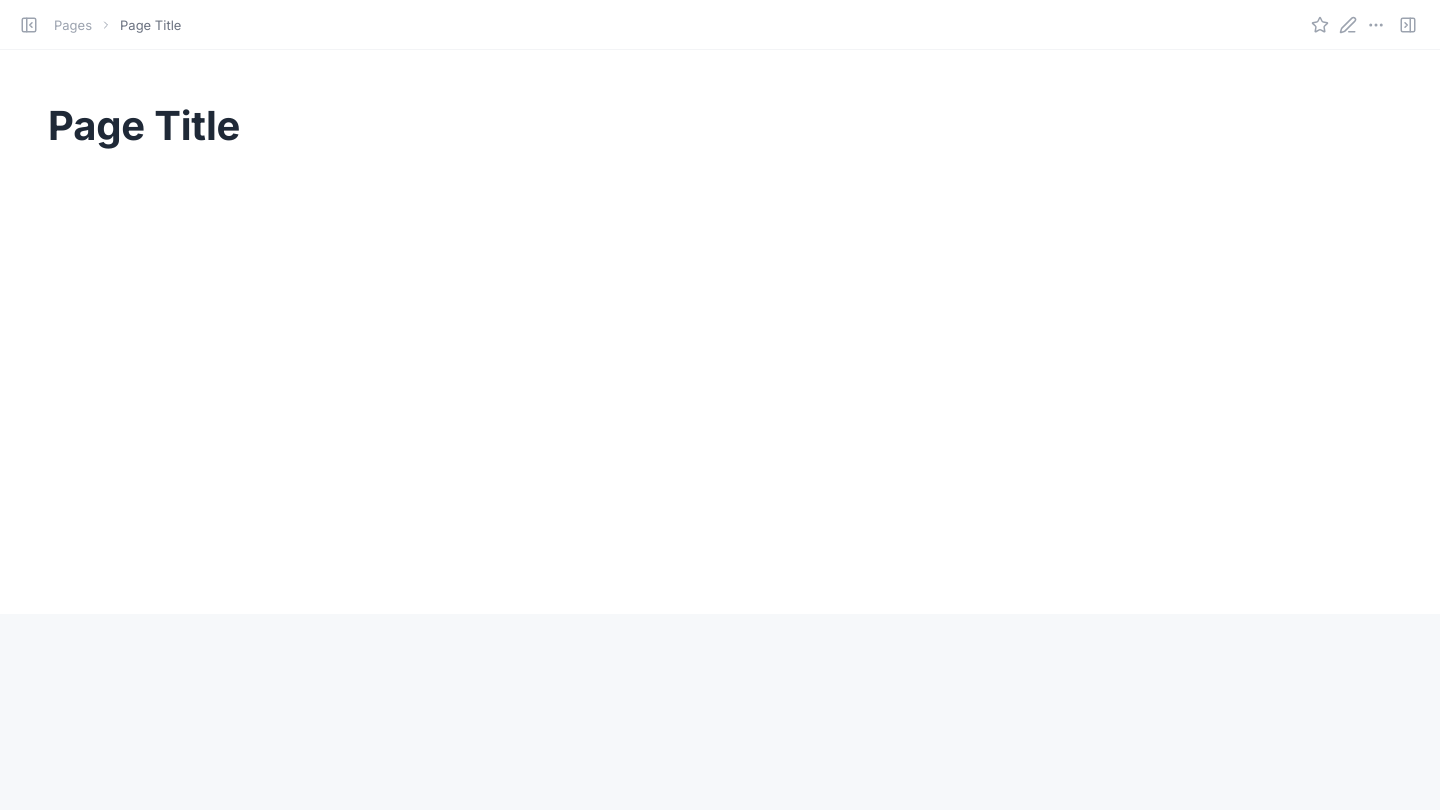
Test: PageContent › Edit Mode › discards changes and exits edit mode when Discard is clicked
Click the button named "Edit page" at {"x": 1348, "y": 24}, box 1336,12 -> 1360,36
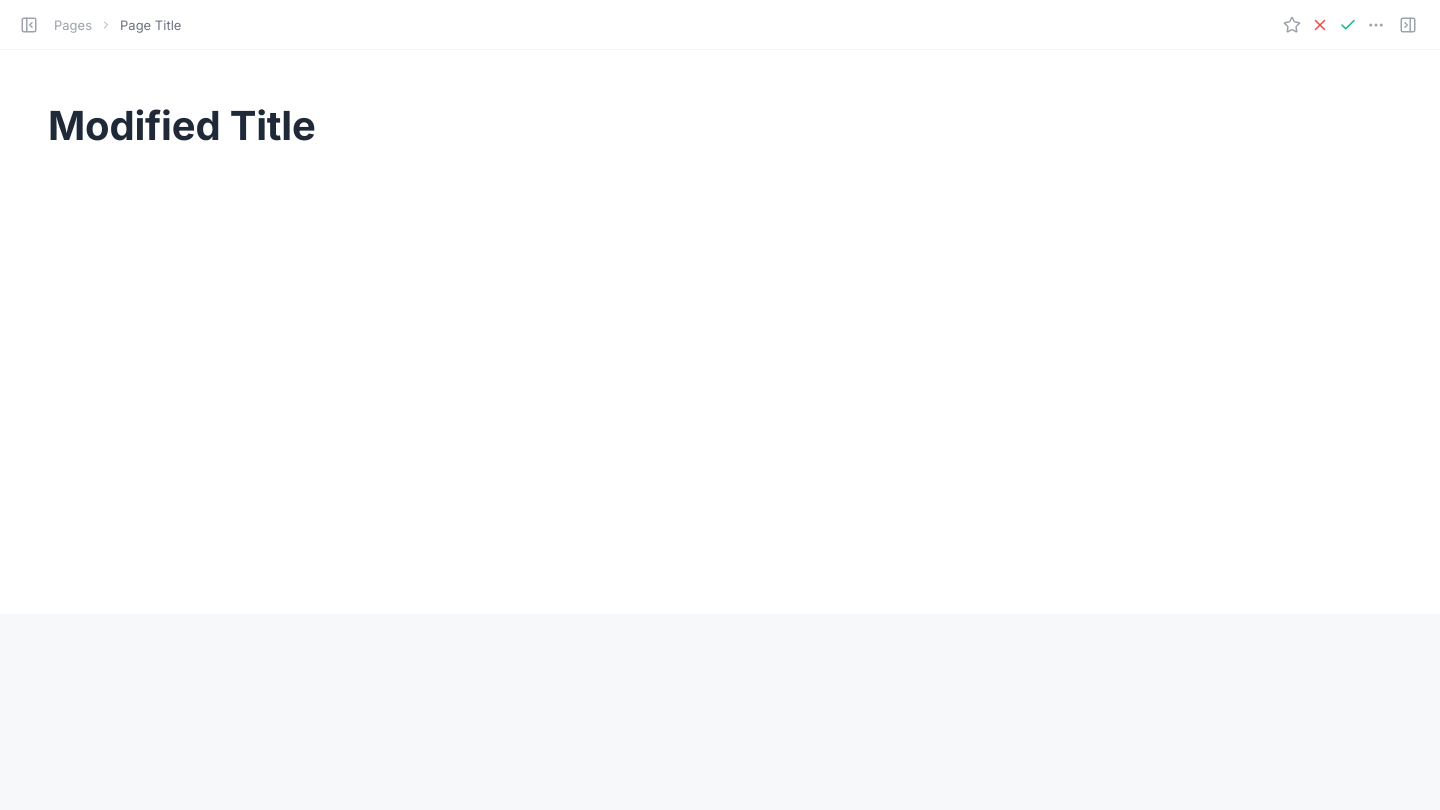
Clear the heading "Modified Title" at {"x": 182, "y": 126}, box 48,101 -> 316,150
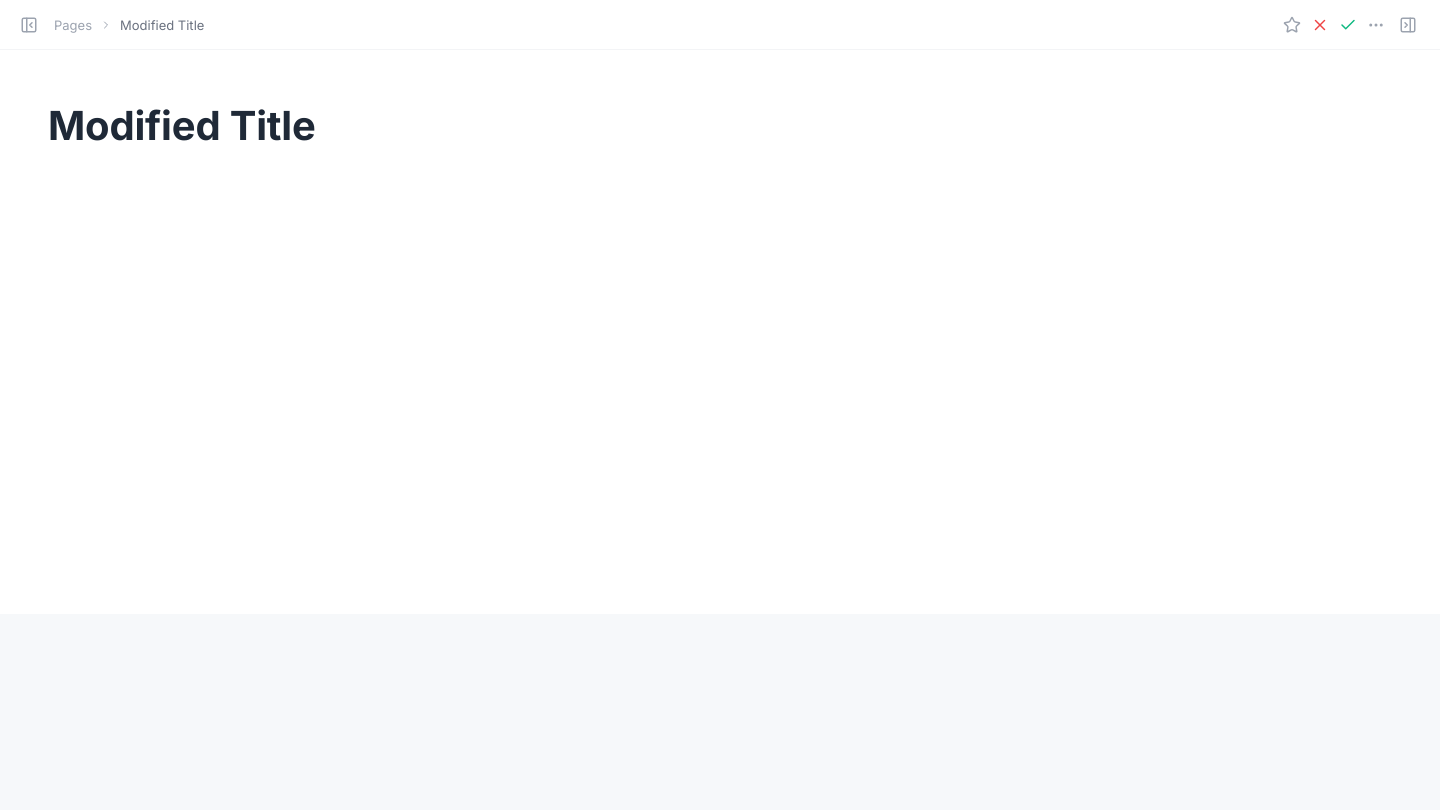
Click the button named "Cancel editing" at {"x": 1320, "y": 24}, box 1308,12 -> 1332,36
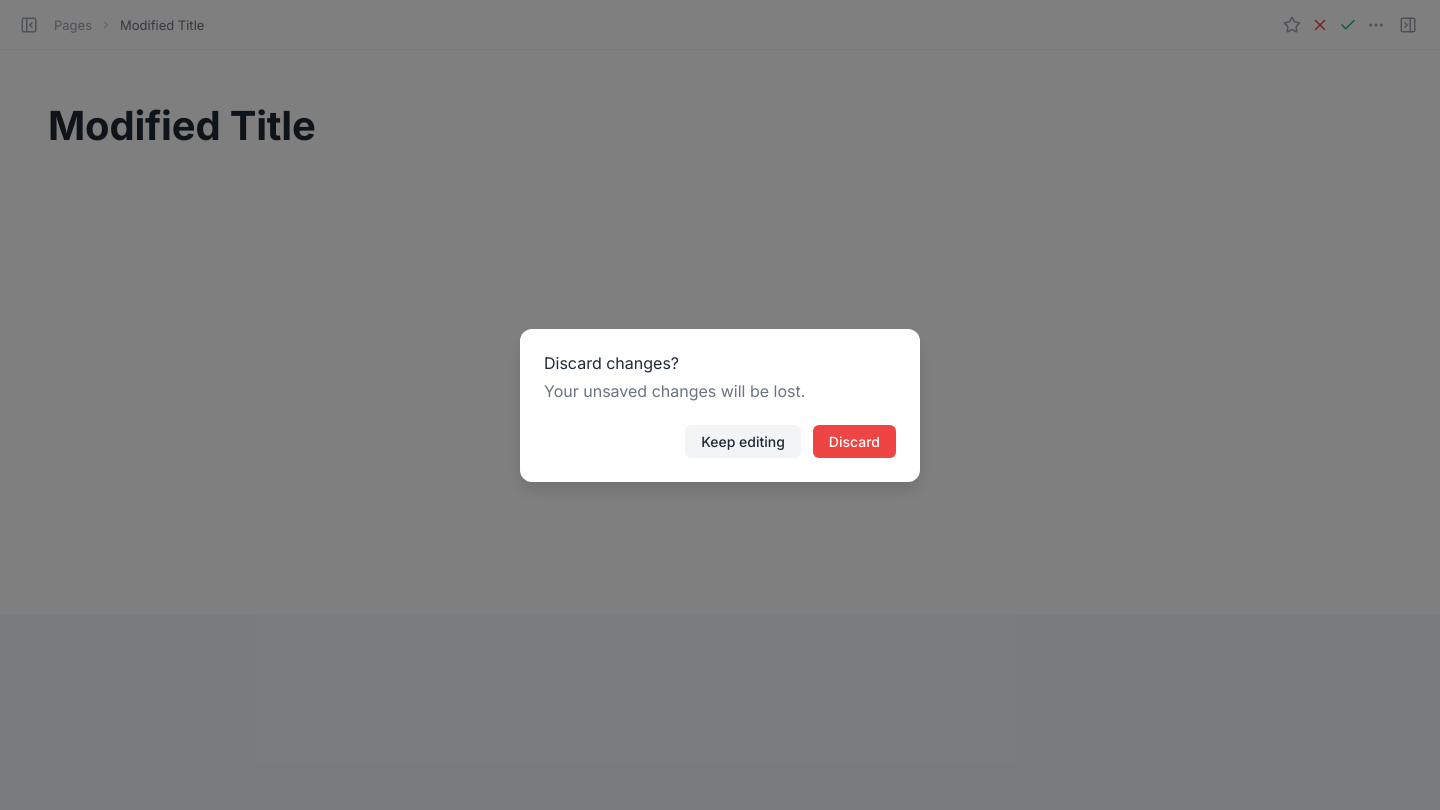
Click the button "Discard" at {"x": 854, "y": 441}, box 813,424 -> 896,458
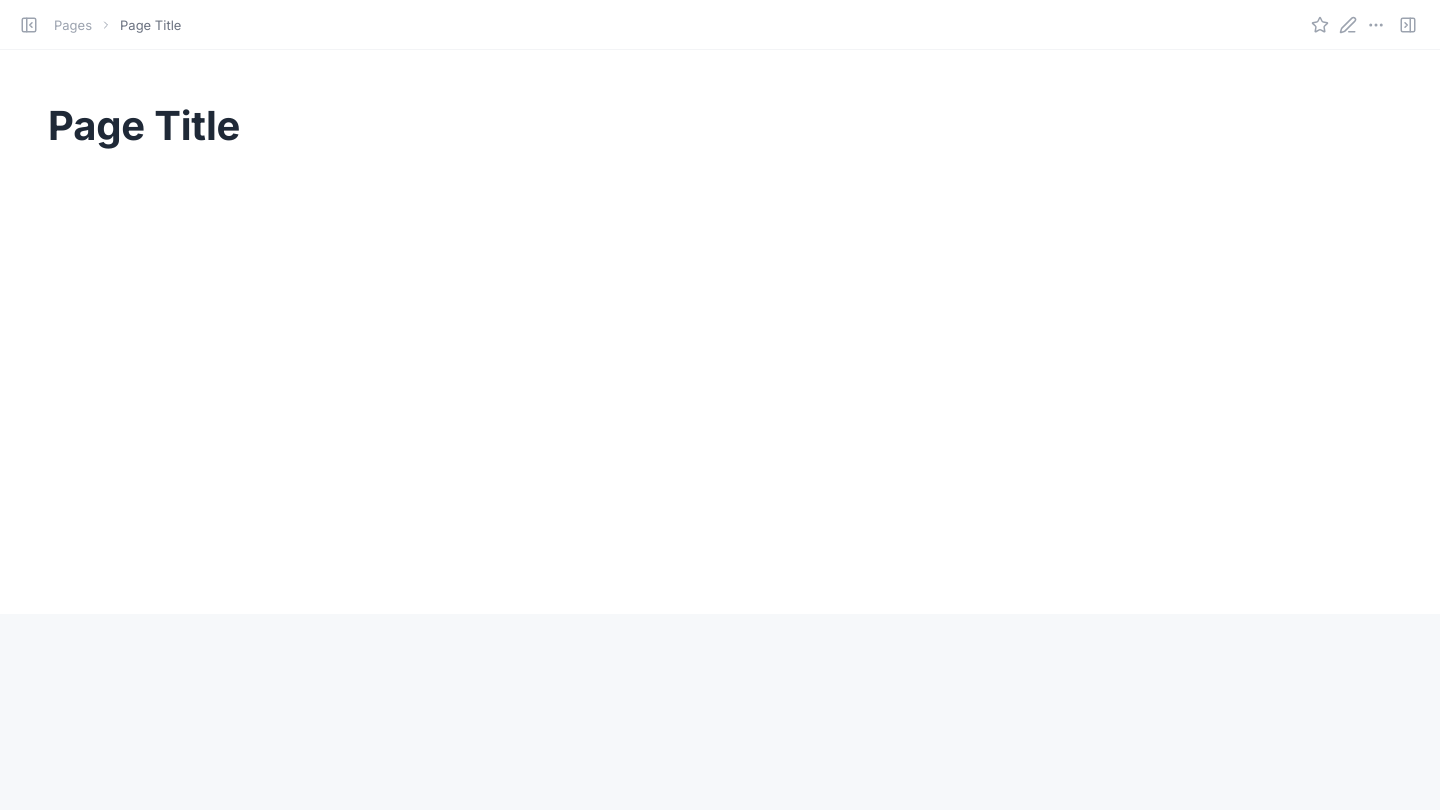
Expected: the button named "Edit page" is shown, 1336,12 -> 1360,36
